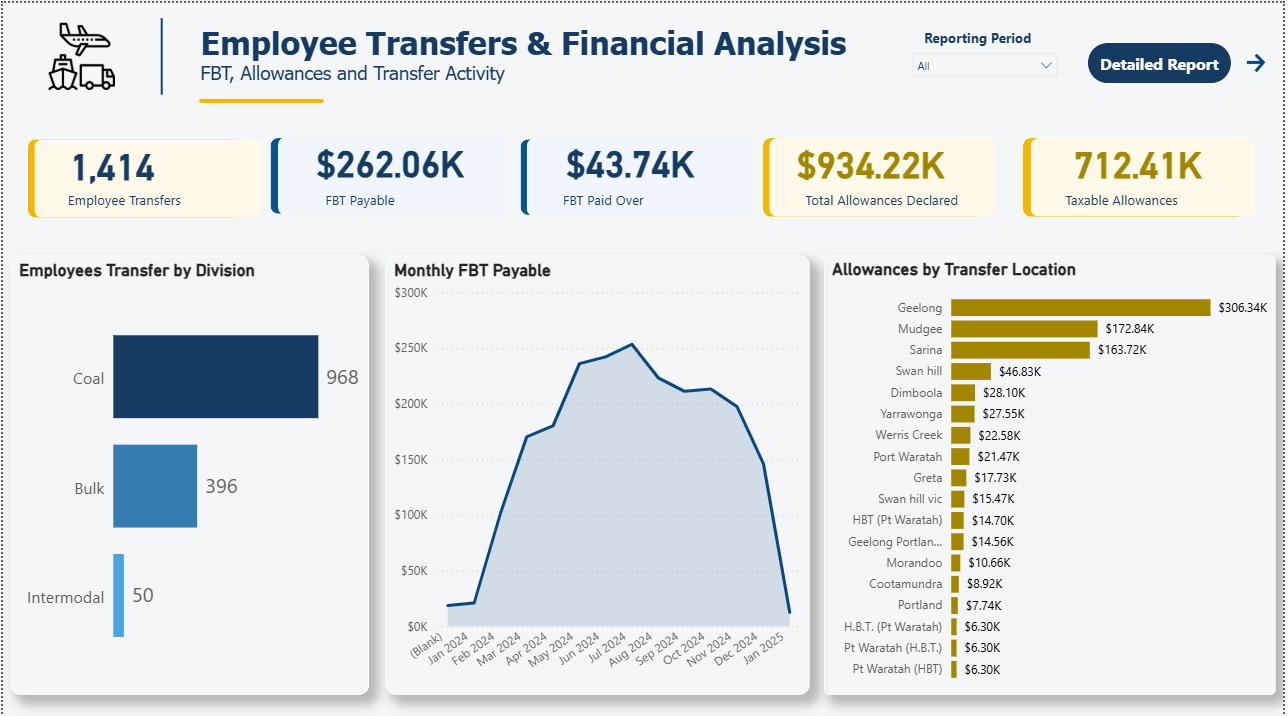

What the dashboard file says about the page in this screenshot:
{"tool":"powerbi","page":{"name":"Employee Transfer & Financial Analysis","canvas":[1280,720],"ordinal":0},"visuals":[{"type":"shape","box":[25,135.9,215.3,78.6],"z":0},{"type":"shape","box":[31.4,135.9,226.4,78.6],"z":1000},{"type":"textbox","box":[192.2,14.8,695,76.7],"z":2000},{"type":"card","fields":{"Values":["Measure Table.# Total employeeID"]},"box":[60,135,99,53],"z":7000},{"type":"clusteredBarChart","title":"Employees Transfer by Division","fields":{"Category":["Form.Home Depot Division"],"Y":["Measure Table.# Employee Transfer"]},"box":[7,252,358,439],"z":13000},{"type":"lineChart","title":"Monthly FBT Payable  ","fields":{"Category":["Date table.Month Year"],"Y":["Measure Table.Total FBT payable > 0 - Paid"]},"box":[382,252,424,439],"z":14000},{"type":"clusteredBarChart","title":"Allowances by Transfer Location","fields":{"Category":["Form.Temporary Transfer Location"],"Y":["Measure Table.Total Allowances declare"]},"box":[821,252,451,439],"z":15000},{"type":"actionButton","box":[1085,40,142.9,40],"z":18000},{"type":"actionButton","box":[1238.4,45.3,26.8,29.6],"z":19000},{"type":"textbox","box":[60.1,182.1,165.7,32.2],"z":20000},{"type":"shape","box":[141.5,15.2,34.9,77],"z":21000},{"type":"shape","box":[196.1,80.6,124.5,35.8],"z":22000},{"type":"shape","box":[268,135,215.3,75.8],"z":23502},{"type":"shape","box":[275,134,226,78.8],"z":23503},{"type":"card","fields":{"Values":["Measure Table.Total FBT payable > 0 - Paid"]},"box":[301,135,172,47],"z":23504},{"type":"textbox","box":[317,182,165.7,32.2],"z":23505},{"type":"shape","box":[517.5,135.9,203.3,75.8],"z":23506},{"type":"shape","box":[524,135,226,78.8],"z":23507},{"type":"card","fields":{"Values":["Measure Table.total fbt payable < 0 Positive - Over Paid"]},"box":[551,135,152,47],"z":23508},{"type":"textbox","box":[555,182,165.7,32.2],"z":23509},{"type":"shape","box":[759.6,135,222.1,78.8],"z":23510},{"type":"shape","box":[766.7,135,226,78.8],"z":23511},{"type":"card","fields":{"Values":["Measure Table.Total Allowances declare"]},"box":[781,136,173,46],"z":23512},{"type":"textbox","box":[797,182,165.7,32.2],"z":23513},{"type":"shape","box":[1020,135,222.1,78.8],"z":23514},{"type":"shape","box":[1027.7,135,224.6,78.6],"z":23515},{"type":"card","fields":{"Values":["Sum(FBT Table.Taxable Allowance)"]},"box":[1046,136,177,46],"z":23516},{"type":"textbox","box":[1057,182,165.7,32.2],"z":23517},{"type":"slicer","fields":{"Values":["Date table.Month Year"]},"box":[899.2,39.7,165.4,46.2],"z":23518},{"type":"textbox","box":[915.9,21.3,140.5,32.3],"z":23519},{"type":"image","box":[39.7,14.8,77.6,76.7],"z":23520}]}

Visuals, with their boxes in screenshot pixels (x1, y1, x2, y2), scaled from the page's 1280x720 canvas onto the 1288x716 screenshot:
shape: x1=25 y1=135 x2=242 y2=213
shape: x1=32 y1=135 x2=259 y2=213
textbox: x1=193 y1=15 x2=893 y2=91
card - Measure Table.# Total employeeID: x1=60 y1=134 x2=160 y2=187
"Employees Transfer by Division" clusteredBarChart: x1=7 y1=251 x2=367 y2=687
"Monthly FBT Payable  " lineChart: x1=384 y1=251 x2=811 y2=687
"Allowances by Transfer Location" clusteredBarChart: x1=826 y1=251 x2=1280 y2=687
actionButton: x1=1092 y1=40 x2=1236 y2=80
actionButton: x1=1246 y1=45 x2=1273 y2=74
textbox: x1=60 y1=181 x2=227 y2=213
shape: x1=142 y1=15 x2=178 y2=92
shape: x1=197 y1=80 x2=323 y2=116
shape: x1=270 y1=134 x2=486 y2=210
shape: x1=277 y1=133 x2=504 y2=212
card - Measure Table.Total FBT payable > 0 - Paid: x1=303 y1=134 x2=476 y2=181
textbox: x1=319 y1=181 x2=486 y2=213
shape: x1=521 y1=135 x2=725 y2=211
shape: x1=527 y1=134 x2=755 y2=213
card - Measure Table.total fbt payable < 0 Positive - Over Paid: x1=554 y1=134 x2=707 y2=181
textbox: x1=558 y1=181 x2=725 y2=213
shape: x1=764 y1=134 x2=988 y2=213
shape: x1=771 y1=134 x2=999 y2=213
card - Measure Table.Total Allowances declare: x1=786 y1=135 x2=960 y2=181
textbox: x1=802 y1=181 x2=969 y2=213
shape: x1=1026 y1=134 x2=1250 y2=213
shape: x1=1034 y1=134 x2=1260 y2=212
card - Sum(FBT Table.Taxable Allowance): x1=1053 y1=135 x2=1231 y2=181
textbox: x1=1064 y1=181 x2=1230 y2=213
slicer - Date table.Month Year: x1=905 y1=39 x2=1071 y2=85
textbox: x1=922 y1=21 x2=1063 y2=53
image: x1=40 y1=15 x2=118 y2=91
